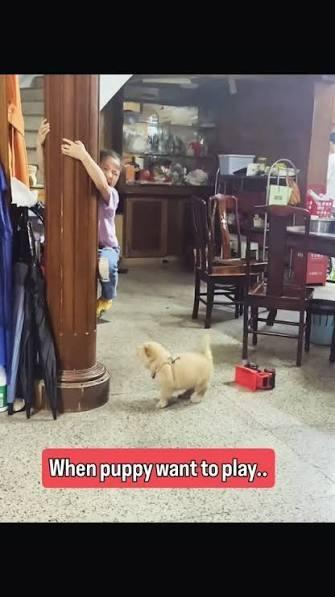puppy-dog: (139, 336, 214, 407)
